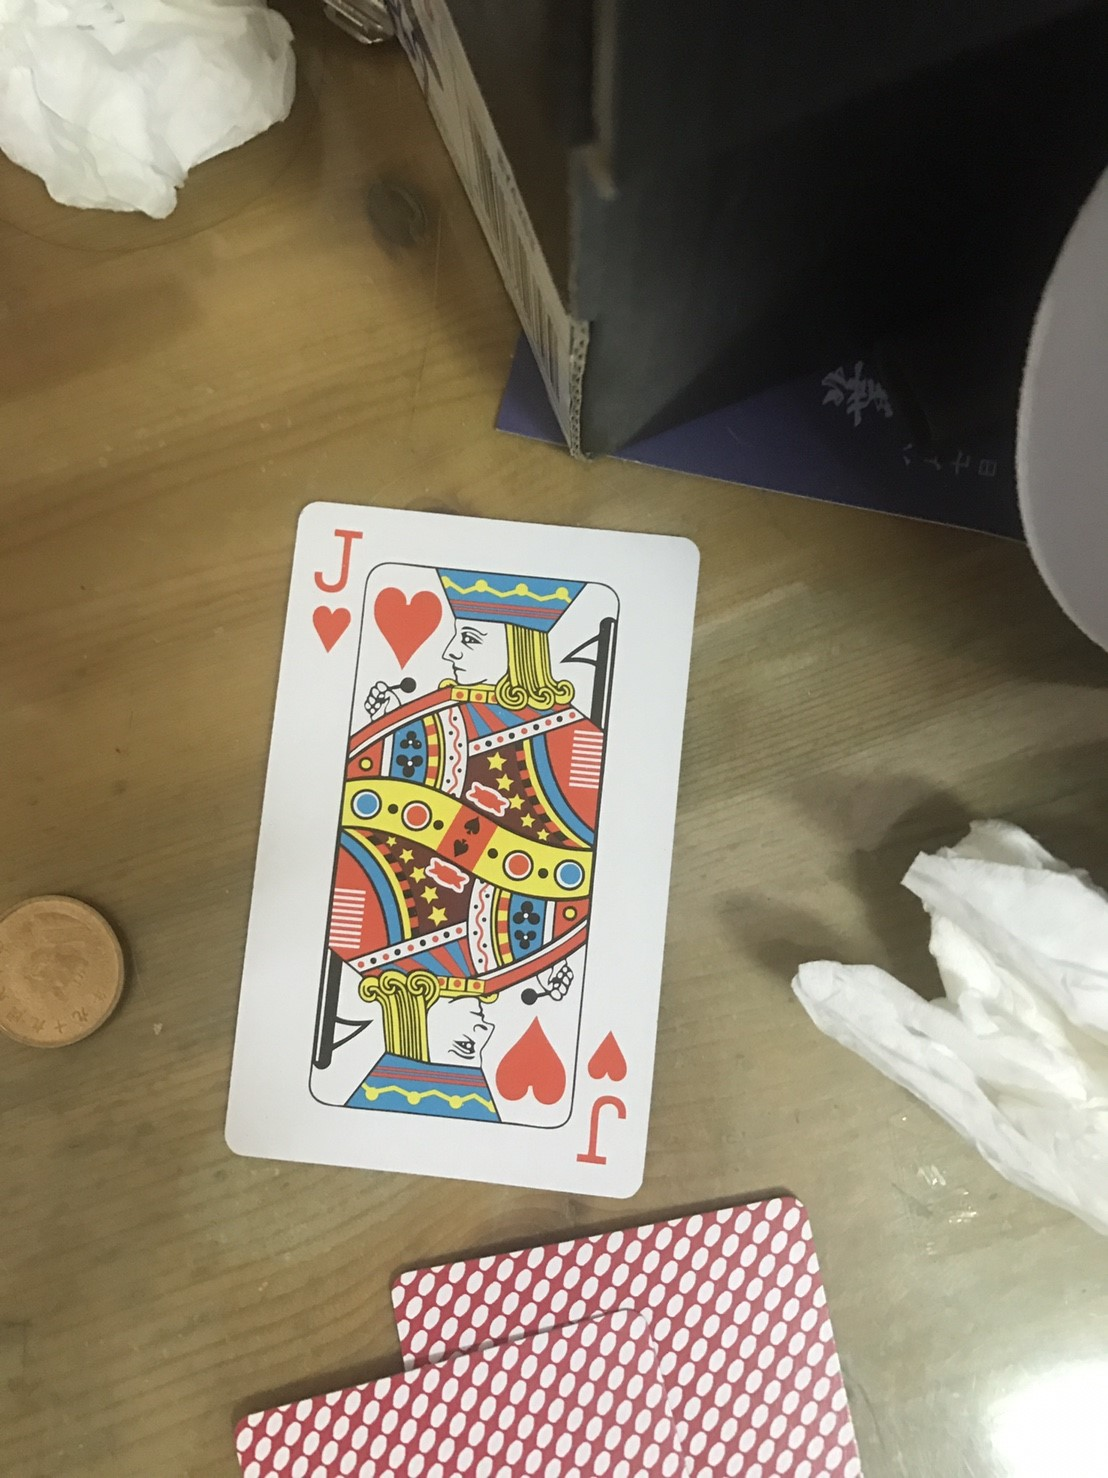hearts: (493, 1016, 577, 1109), (374, 576, 448, 669), (580, 1024, 637, 1092), (306, 597, 355, 656)
